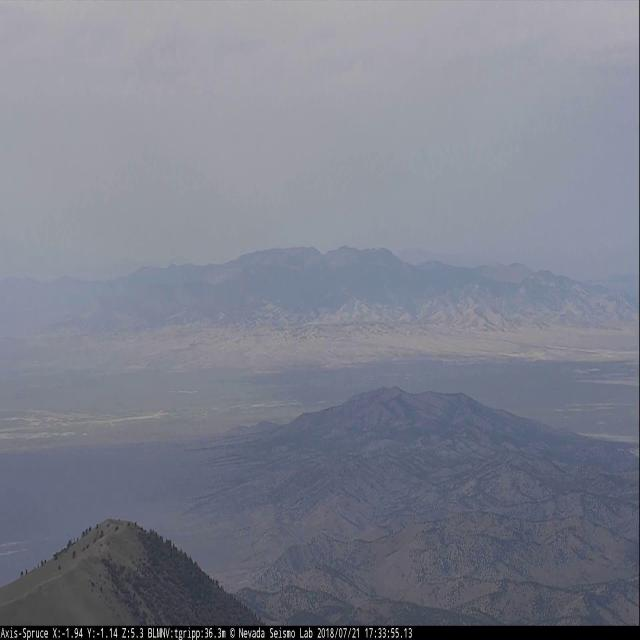smoke: (295, 298, 372, 331)
